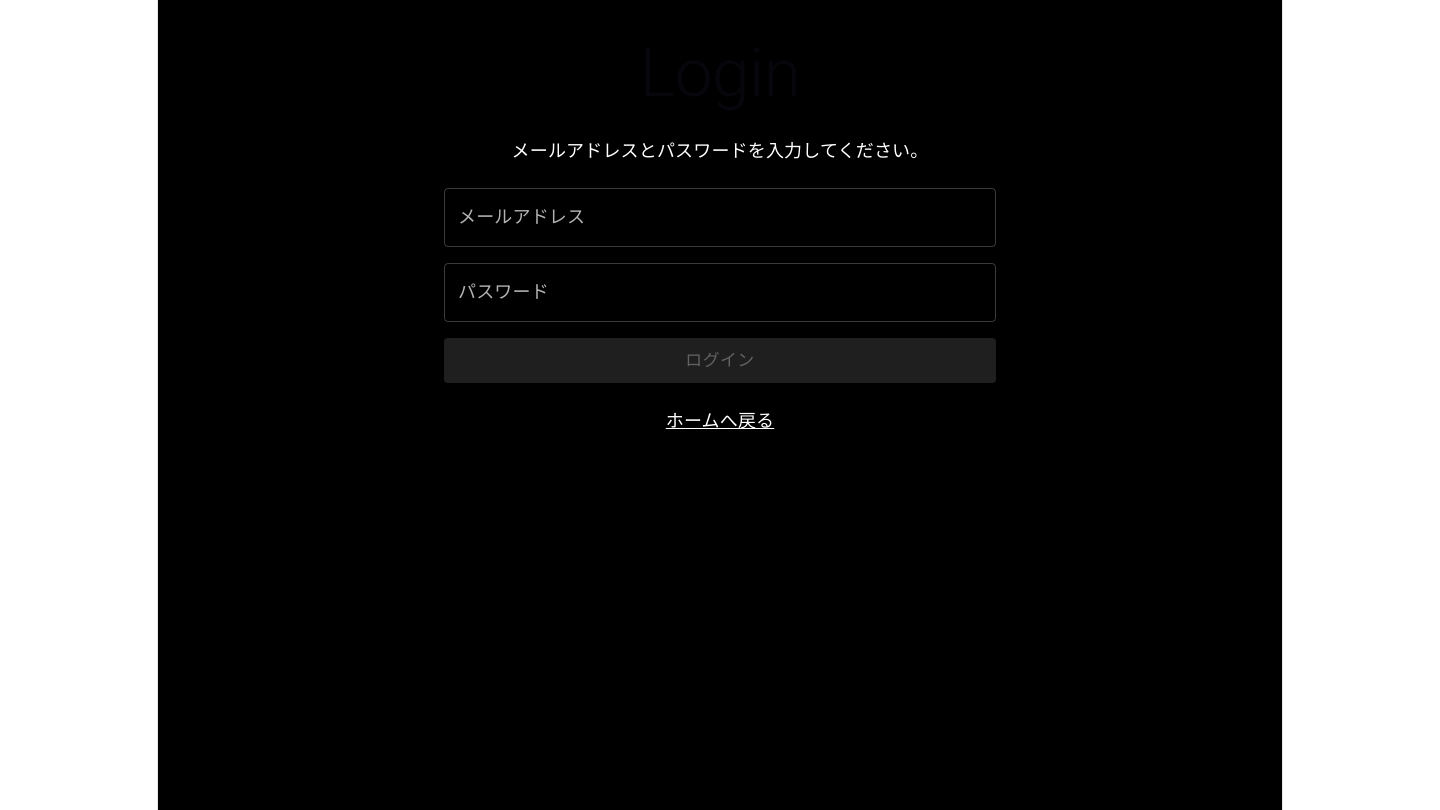
Test: LoginPage › 正しい認証情報でログイン結果を表示する
In the field labelled "メールアドレス": (720,217) [444,188,996,247], type "user@example.com"
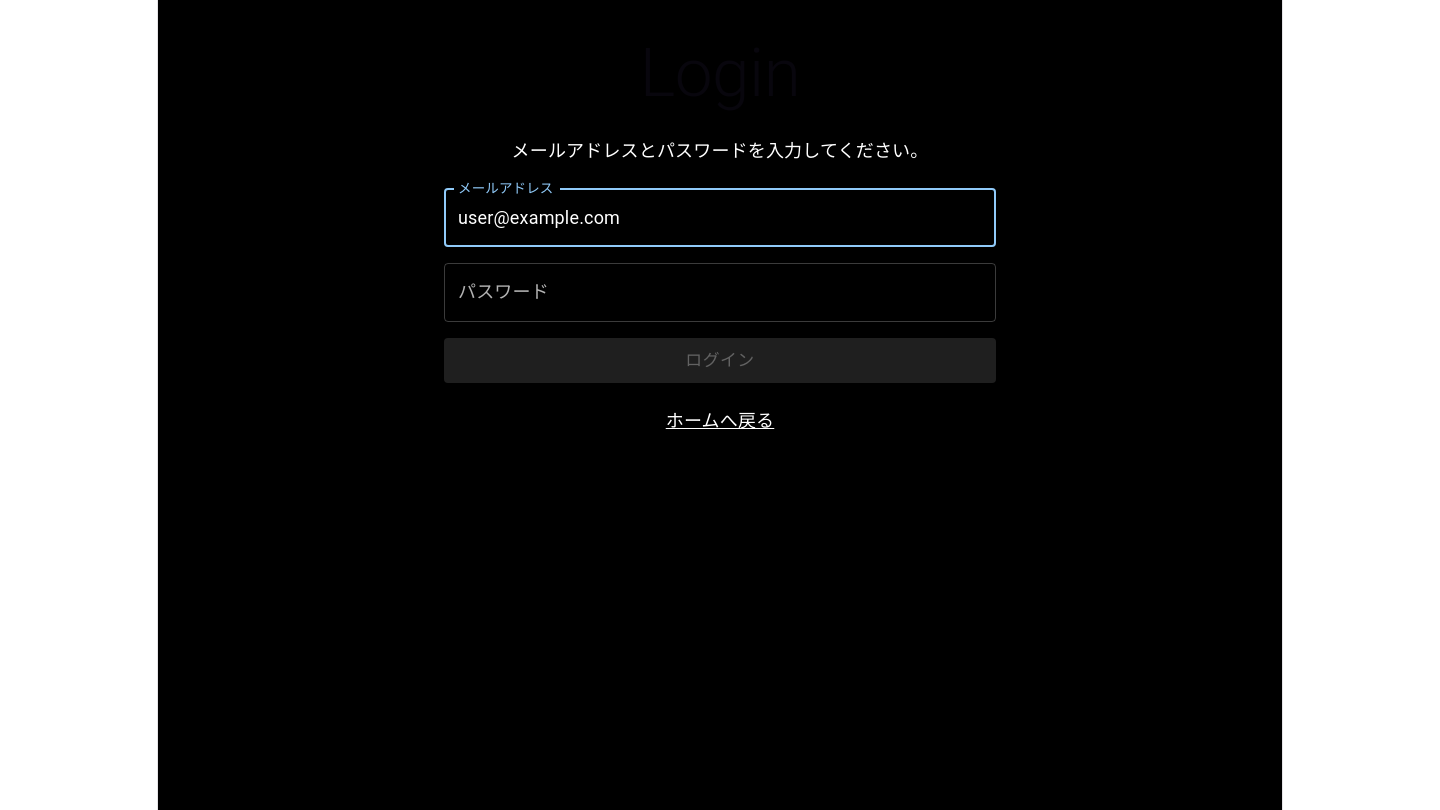
In the password field labelled "パスワード": (720,292) [444,263,996,322], type "password"
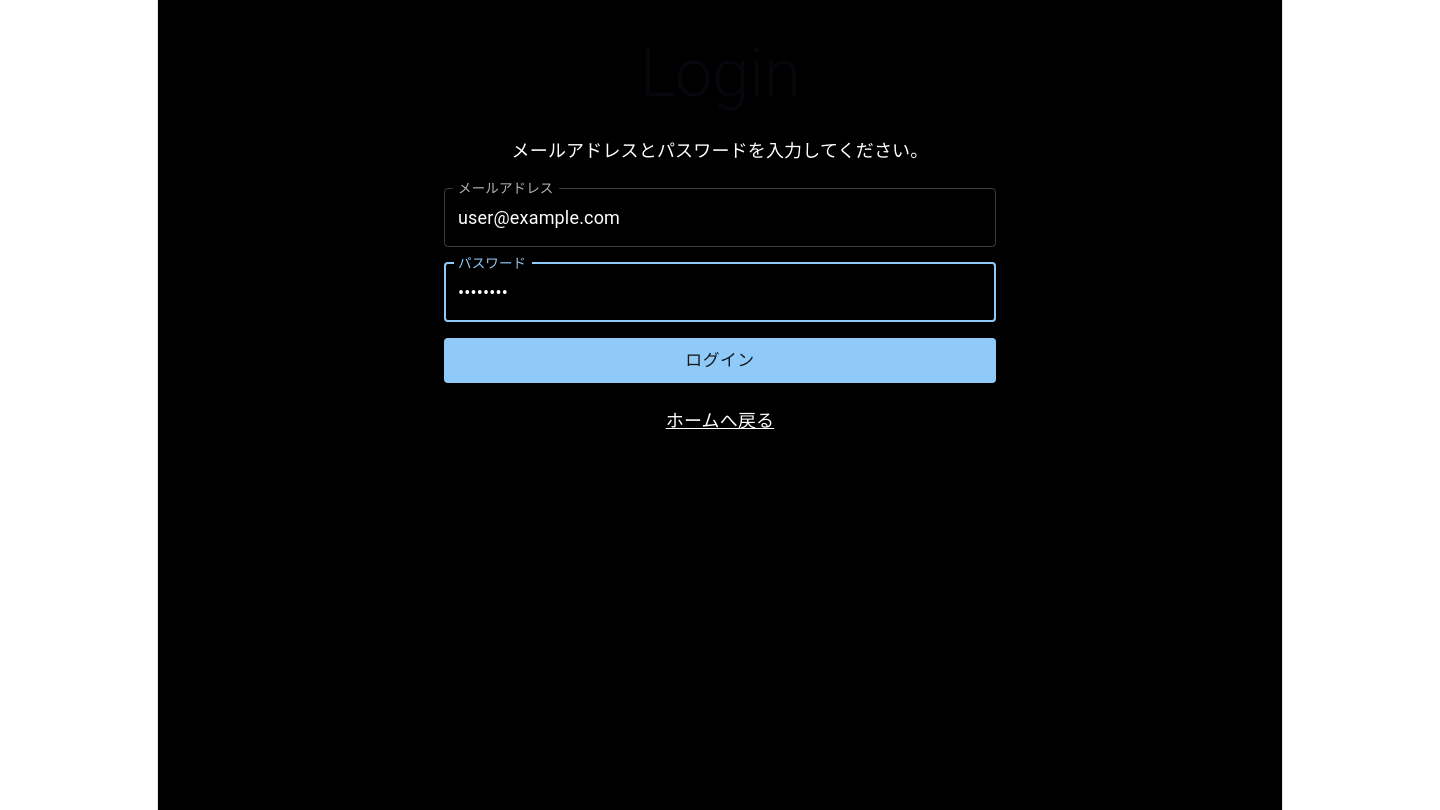
Click the button "ログイン": (720,361) [444,338,996,383]
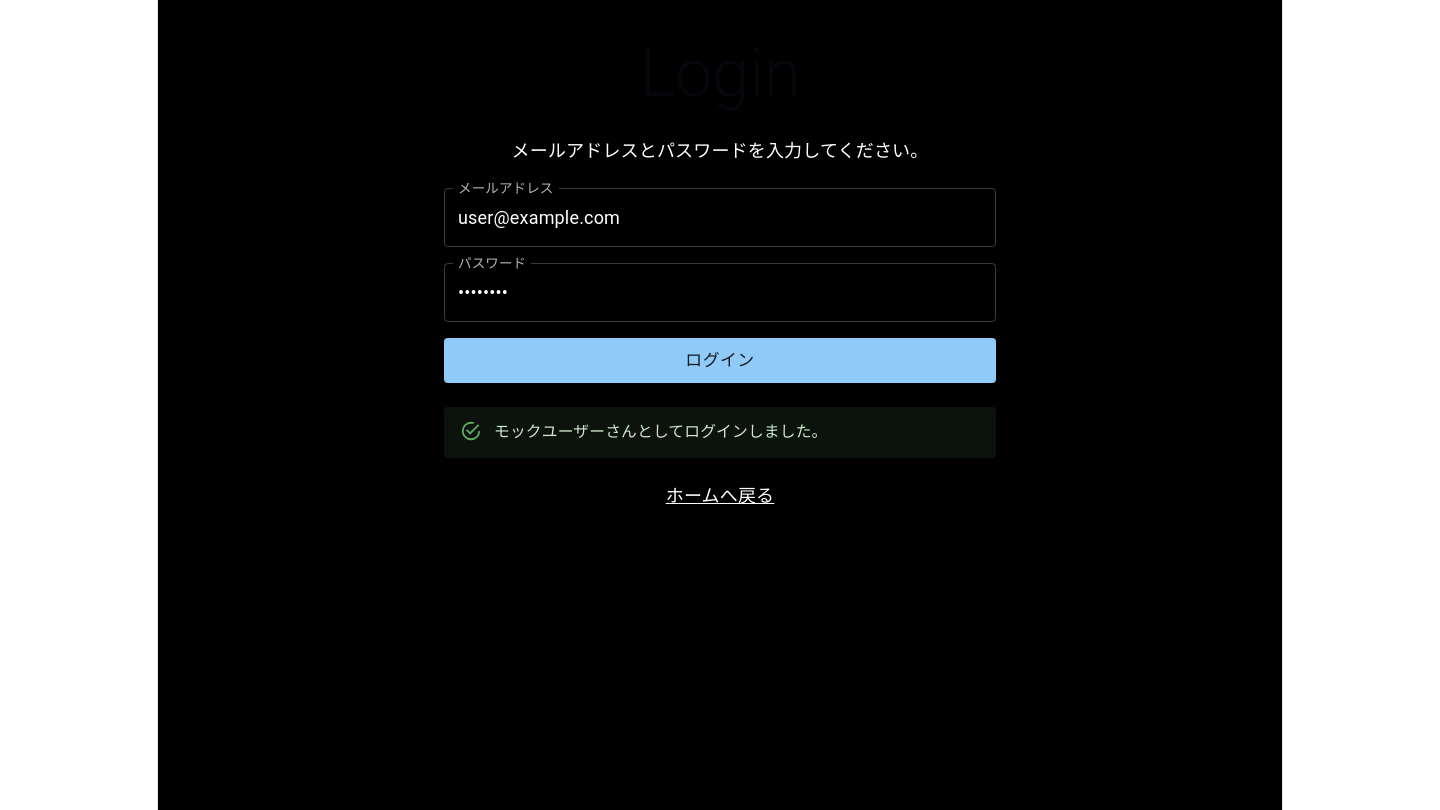
Check: the text "モックユーザーさんとしてログインしました。" is shown, box [494,422,828,441]
